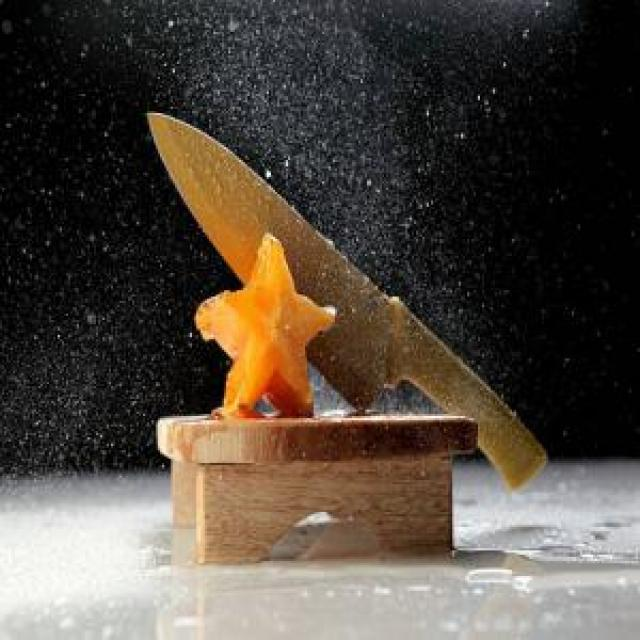knife: (143, 102, 549, 493)
